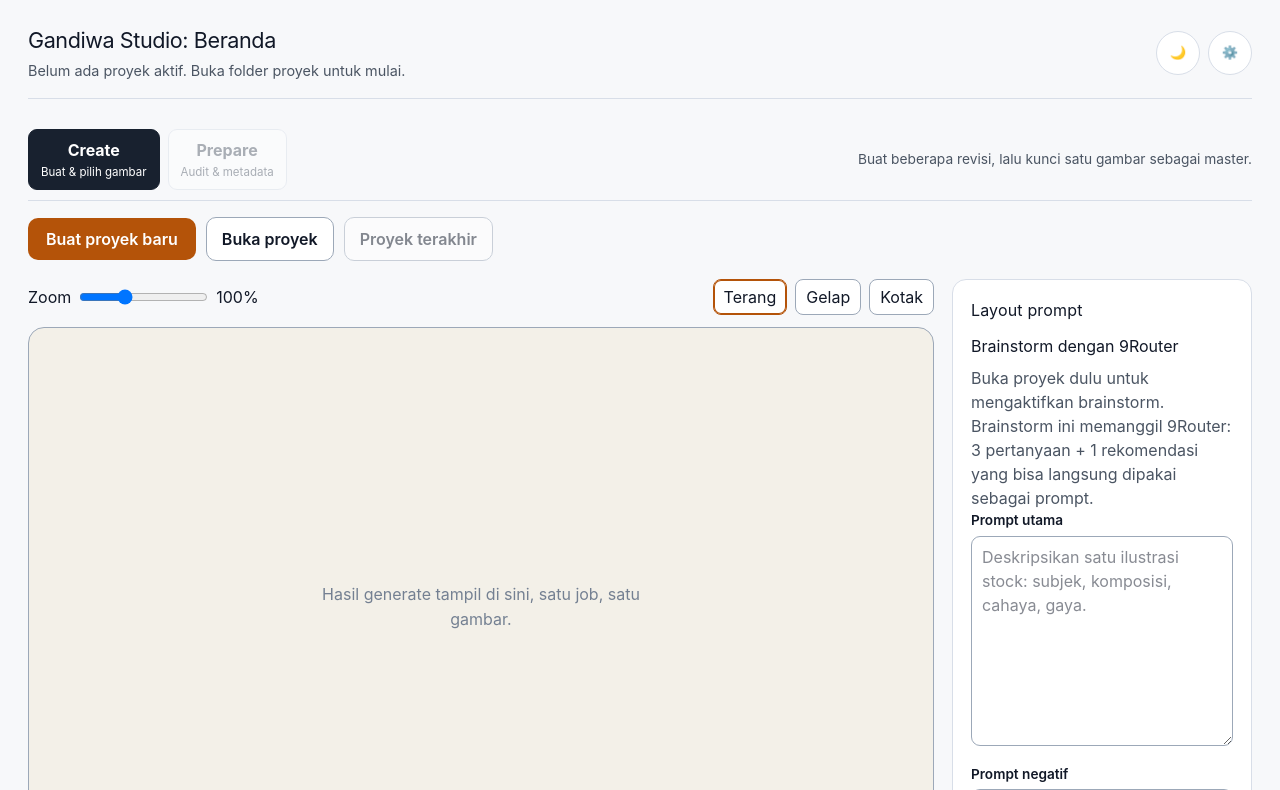
Beranda — meja kerja studio › opens the new-project dialog from the toolbar
The image size is (1280, 790).
Click the button "Buat proyek baru" at (112,239), box 28,218 -> 196,260
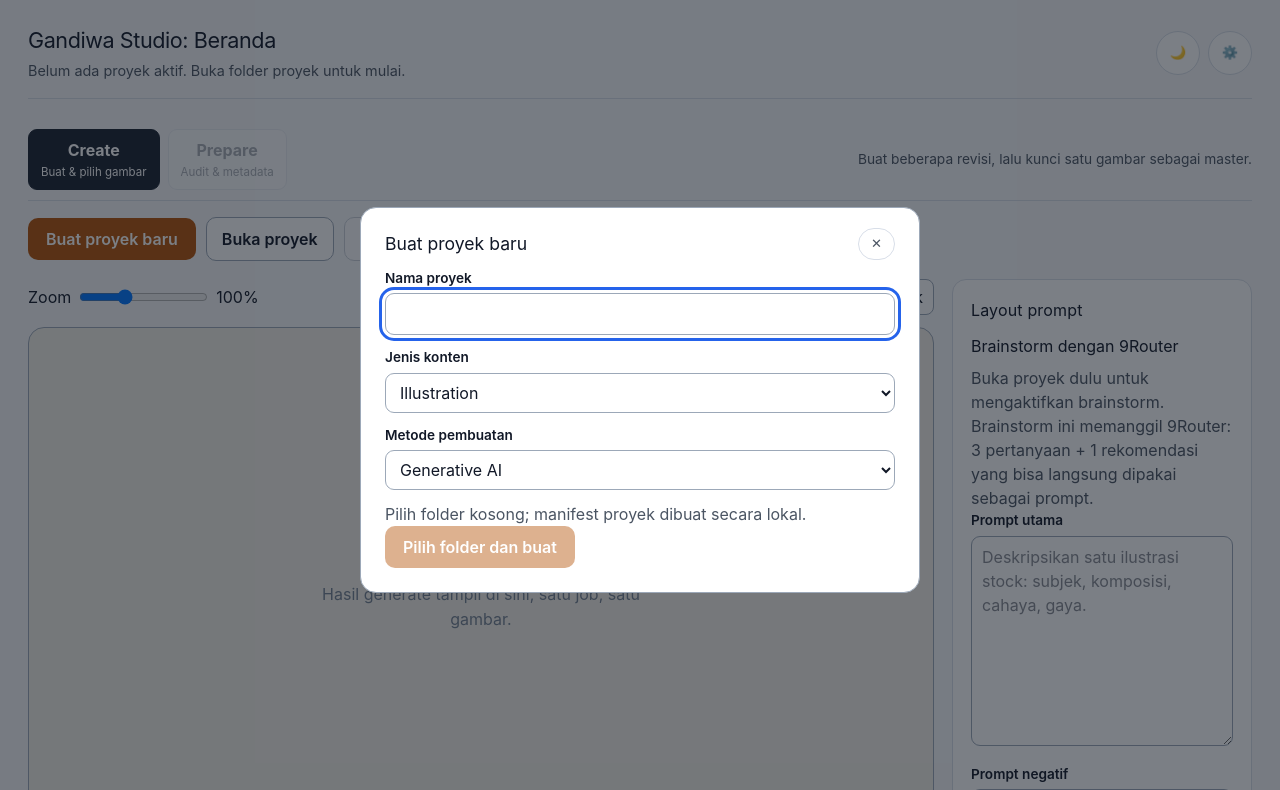
Check: the dialog "Buat proyek baru" is shown, box 360,207 -> 920,593
